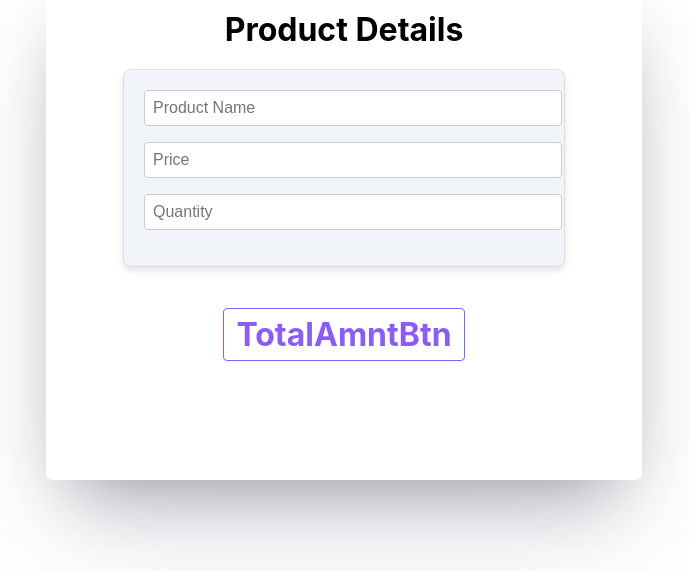
it: Product Component › total amount calculation and display
Type "phone" into the field with placeholder "Product Name". click: [353, 108]
box: [144,90,562,126]
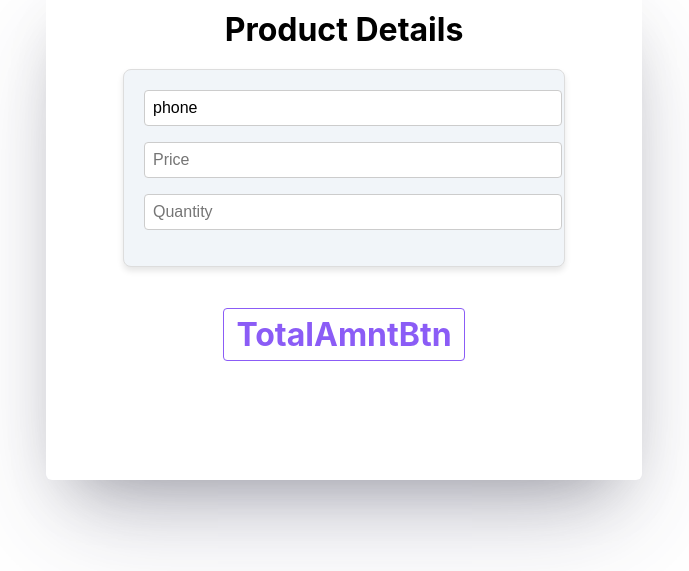
Type "10000" into the number field with placeholder "Price". click: [353, 160]
box: [144,142,562,178]
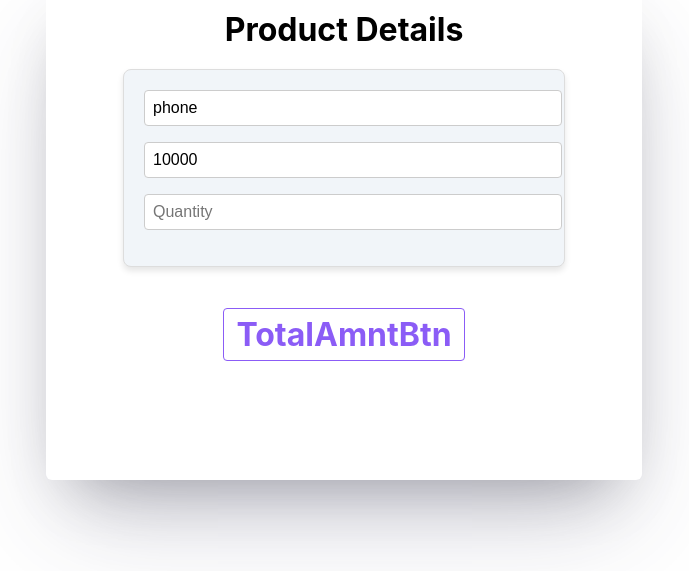
Type "3" into the number field with placeholder "Quantity". click: [353, 212]
box: [144,194,562,230]
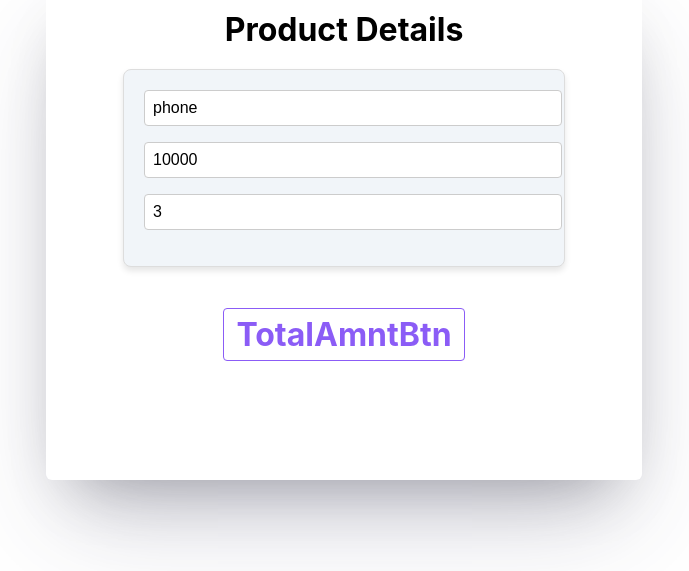
Click the link "TotalAmntBtn". click: [344, 334]
box: [223,308,465,361]
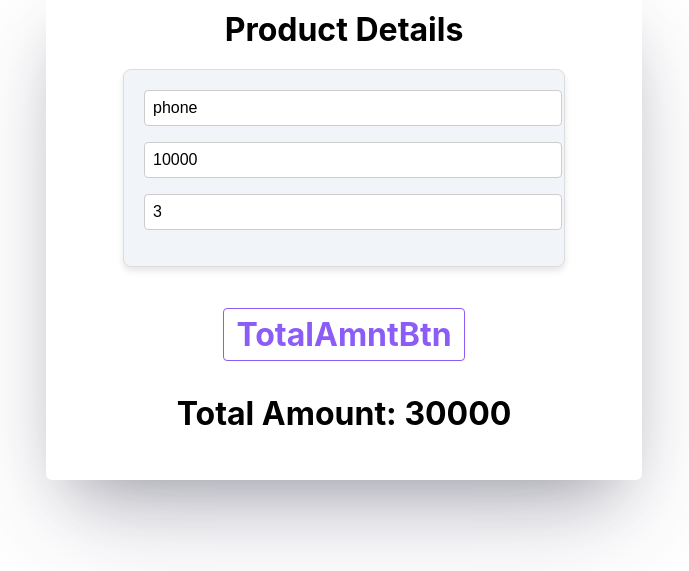
Result: the text "Total Amount: 30000" is shown at [177,394,511,433]
